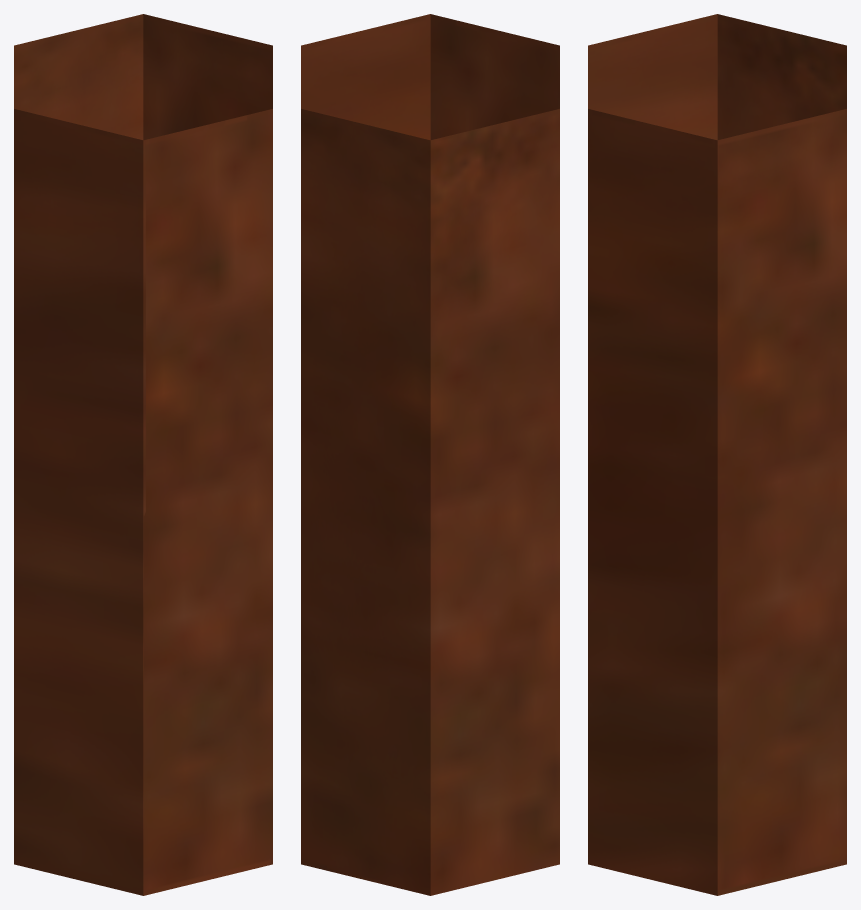
File: recto sin uniones.fbx
3 views of the same model, side by side, from view 1: azimuth 30°, elevation 25°; view 2: azimuth 150°, elevation 25°; view 3: azimuth 270°, elevation 25° (orthographic).
Visible parts, largest first — view 1: recto s/ uniones; view 2: recto s/ uniones; view 3: recto s/ uniones.
Boxes of the visible parts, x1,y1,x2,y2 form: recto s/ uniones: [14, 14, 272, 895]; recto s/ uniones: [301, 14, 559, 895]; recto s/ uniones: [588, 14, 846, 895].
Size of the model in its own units: 2.39 by 6.66 by 2.07.
Materials: 1 (1 with a texture image).
